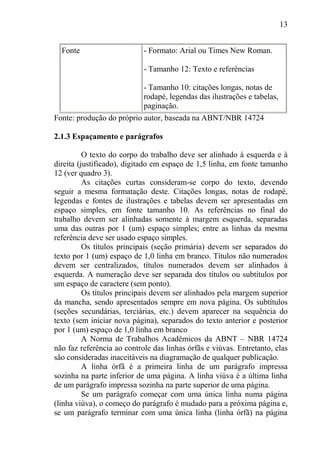Texto: (48, 38, 292, 423)
